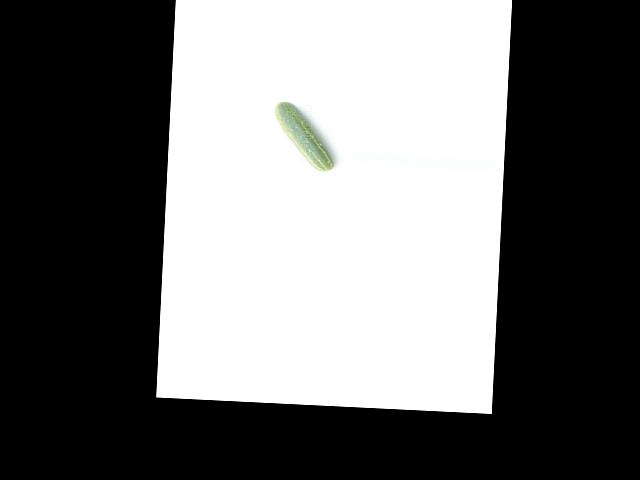cucumber: (271, 101, 337, 172)
